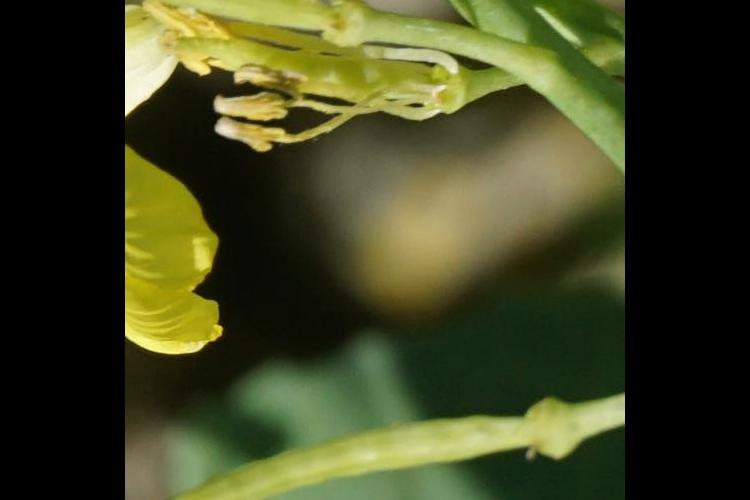yellow: (137, 129, 225, 350)
